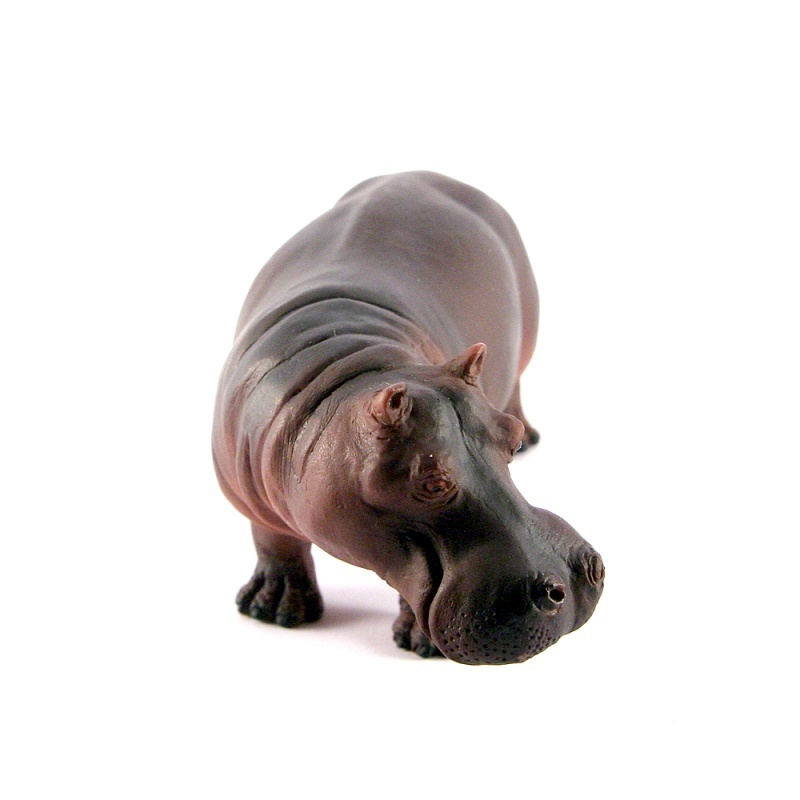hipopotamo: (195, 161, 624, 677)
